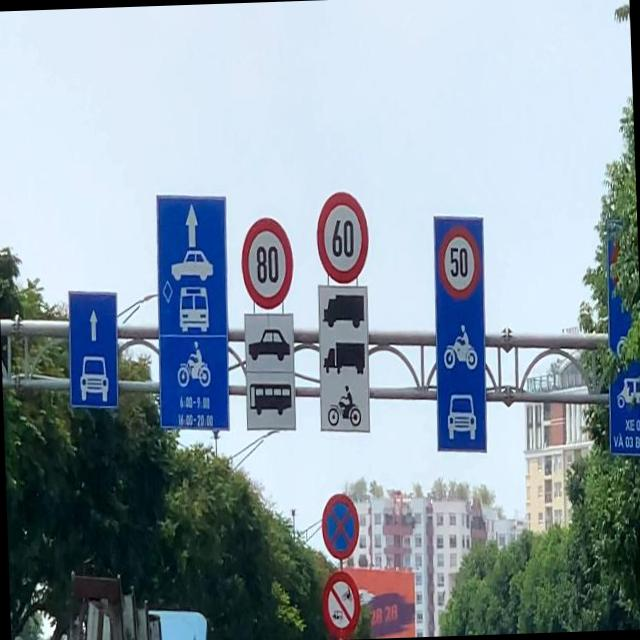P-104: (322, 572, 360, 635)
P-127: (242, 214, 294, 310), (316, 188, 368, 283)
P-130: (320, 492, 360, 559)
